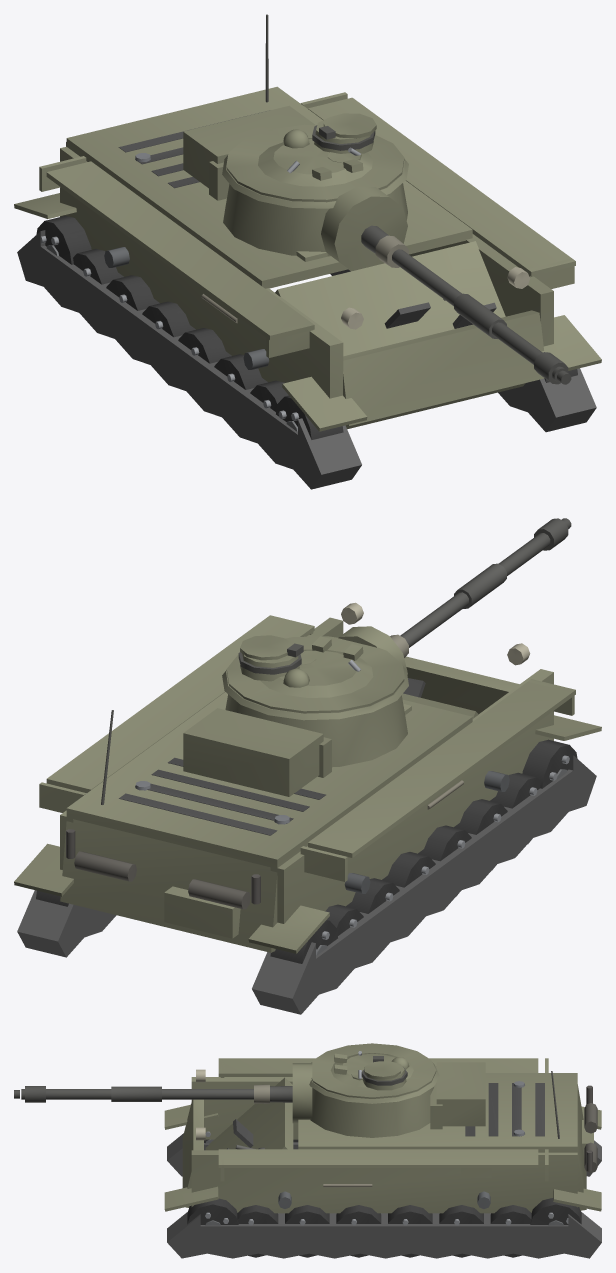
3 views of the same model, one above another, from view 1: azimuth 30°, elevation 25°; view 2: azimuth 150°, elevation 25°; view 3: azimuth 270°, elevation 25° (orthographic). The views are drawn at different scales.
Visible parts, largest first — view 1: hullSide, tracks, hullTop, glacis, lowerPlate, turretRoof, turretFront, barrel, mantlet, wheel7, turretSide, wheel1 (+7 smaller); view 2: hullSide, tracks, hullTop, hullRear, turretFront, turretRoof, barrel, lowerPlate, wheel6, turretSide, wheel3, wheel4 (+7 smaller); view 3: hullSide, tracks, hullTop, turretFront, turretRoof, barrel, glacis, hullRear, lowerPlate, mantlet, wheel14, wheel15 (+8 smaller).
Boxes of the visible parts, x1,y1,x2,y2 form: hullSide: (39,92,575,398); tracks: (14,193,601,489); hullTop: (66,86,472,288); glacis: (275,241,525,429); lowerPlate: (343,310,544,425); turretRoof: (226,113,404,202); turretFront: (183,105,407,256); barrel: (361,225,571,384); mantlet: (321,186,407,271); wheel7: (36,216,91,264); turretSide: (222,154,408,208); wheel1: (106,275,159,310); hullSide: (39,602,575,923); tracks: (14,715,601,1014); hullTop: (66,692,472,868); hullRear: (60,710,278,952); turretFront: (183,694,407,796); turretRoof: (226,635,404,713); barrel: (390,518,571,657); lowerPlate: (404,656,519,713); wheel6: (522,739,577,788); turretSide: (222,666,408,720); wheel3: (418,825,471,896); wheel4: (454,799,507,870); hullSide: (191,1058,577,1213); tracks: (164,1104,601,1258); hullTop: (298,1073,577,1152); turretFront: (310,1062,485,1137); turretRoof: (311,1043,436,1098); barrel: (14,1084,292,1103); glacis: (205,1077,293,1150); hullRear: (551,1071,597,1210); lowerPlate: (182,1099,203,1207); mantlet: (292,1063,312,1123); wheel14: (187,1198,238,1225); wheel15: (530,1198,581,1225).
Bounding box in the file's own units: 4.12 × 3.02 × 9.6.
